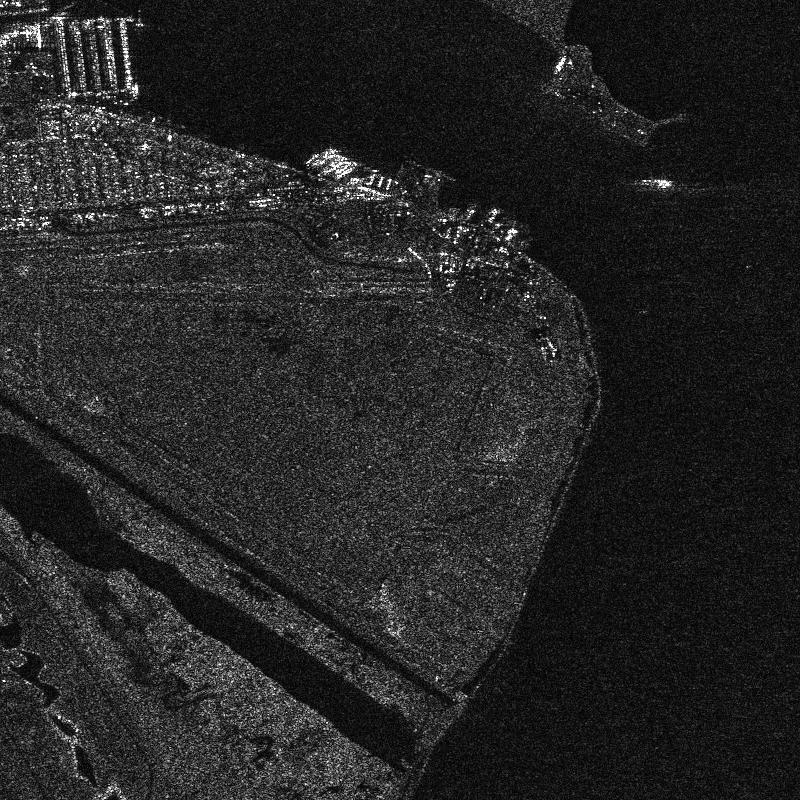ship: (305, 148, 336, 170), (317, 155, 346, 177), (335, 161, 357, 180), (555, 56, 566, 72), (487, 208, 498, 224), (655, 179, 671, 188), (366, 174, 377, 186), (132, 82, 138, 97), (385, 178, 392, 190), (377, 176, 384, 187), (466, 209, 474, 218)
